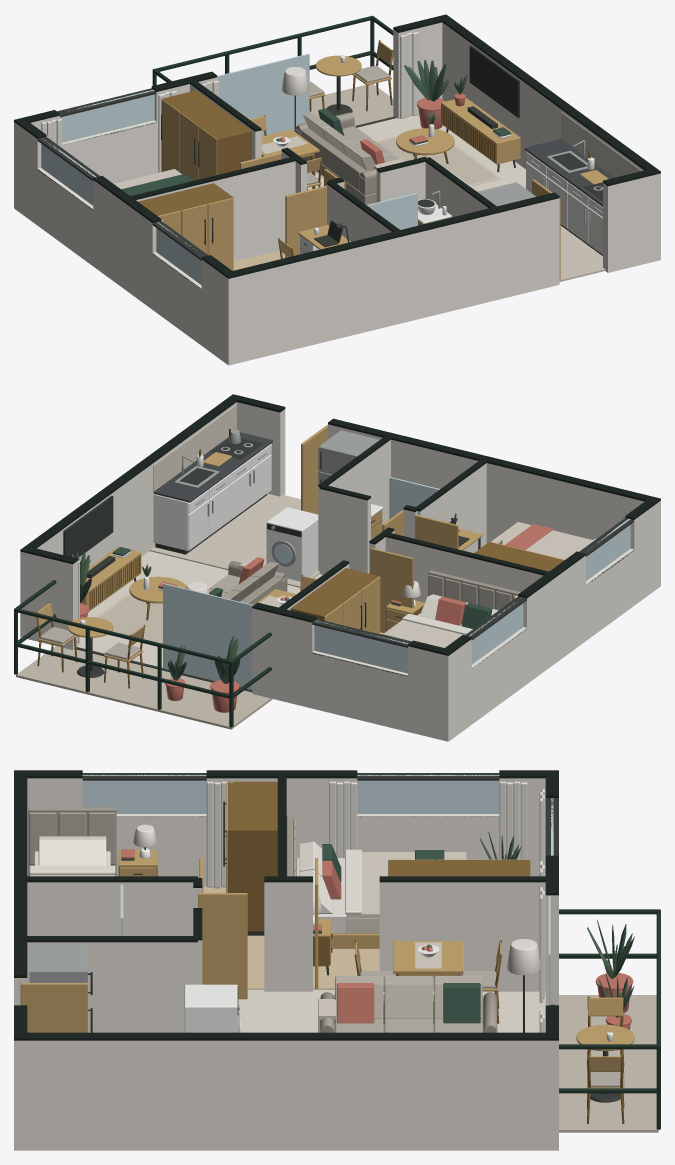
The model's file is jda-interior-tipo-a.glb.
3 views of the same model, one above another, from view 1: azimuth 30°, elevation 25°; view 2: azimuth 150°, elevation 25°; view 3: azimuth 270°, elevation 25° (orthographic). The views are drawn at different scales.
Parts seen in each view (by area): view 1: VIS__INTA_PAREDE, VIS__INTA_MADEIRA, VIS__INTA_CORTE, VIS__INTA_VIDRO, VIS__INTA_MADEIRA_ESC, VIS__INTA_ESCURO, VIS__INTA_BRANCO, VIS__INTA_TECIDO2, VIS__INTA_TECIDO, VIS__INTA_ESTOFADO, VIS__INTA_ESTOFADO2, VIS__INTA_PISO (+9 smaller); view 2: VIS__INTA_PAREDE, VIS__INTA_VIDRO, VIS__INTA_MADEIRA, VIS__INTA_CORTE, VIS__INTA_BRANCO, VIS__INTA_VARANDA, VIS__INTA_ESCURO, VIS__INTA_TECIDO2, VIS__INTA_MADEIRA_ESC, VIS__INTA_MOLHADO, VIS__INTA_GUARDACORPO, VIS__INTA_ESTOFADO2 (+9 smaller); view 3: VIS__INTA_PAREDE, VIS__INTA_CORTE, VIS__INTA_TECIDO, VIS__INTA_MADEIRA, VIS__INTA_MADEIRA_ESC, VIS__INTA_VIDRO, VIS__INTA_ESTOFADO2, VIS__INTA_VARANDA, VIS__INTA_PISO, VIS__INTA_ESCURO, VIS__INTA_TECIDO2, VIS__INTA_GUARDACORPO (+7 smaller).
Boxes of the visible parts, box(x1,y1,x2,y2) form: VIS__INTA_PAREDE: box(14, 22, 660, 365); VIS__INTA_MADEIRA: box(158, 41, 608, 280); VIS__INTA_CORTE: box(14, 14, 660, 288); VIS__INTA_VIDRO: box(41, 53, 417, 284); VIS__INTA_MADEIRA_ESC: box(138, 40, 590, 258); VIS__INTA_ESCURO: box(37, 45, 602, 260); VIS__INTA_BRANCO: box(273, 55, 602, 254); VIS__INTA_TECIDO2: box(113, 112, 641, 189); VIS__INTA_TECIDO: box(41, 32, 418, 222); VIS__INTA_ESTOFADO: box(295, 112, 376, 204); VIS__INTA_ESTOFADO2: box(303, 65, 398, 184); VIS__INTA_PISO: box(307, 114, 604, 281); VIS__INTA_PAREDE: box(20, 402, 660, 741); VIS__INTA_VIDRO: box(163, 477, 630, 689); VIS__INTA_MADEIRA: box(37, 425, 564, 662); VIS__INTA_CORTE: box(20, 394, 660, 676); VIS__INTA_BRANCO: box(80, 443, 464, 624); VIS__INTA_VARANDA: box(16, 646, 272, 729); VIS__INTA_ESCURO: box(63, 428, 633, 692); VIS__INTA_TECIDO2: box(95, 404, 592, 647); VIS__INTA_MADEIRA_ESC: box(36, 449, 563, 688); VIS__INTA_MOLHADO: box(149, 493, 381, 587); VIS__INTA_GUARDACORPO: box(14, 580, 271, 727); VIS__INTA_ESTOFADO2: box(39, 562, 515, 659); VIS__INTA_PAREDE: box(14, 778, 558, 1150); VIS__INTA_CORTE: box(14, 770, 558, 1040); VIS__INTA_TECIDO: box(29, 781, 544, 1032); VIS__INTA_MADEIRA: box(20, 782, 634, 1088); VIS__INTA_MADEIRA_ESC: box(118, 781, 624, 1123); VIS__INTA_VIDRO: box(82, 775, 553, 1032); VIS__INTA_ESTOFADO2: box(29, 812, 623, 1087); VIS__INTA_VARANDA: box(559, 995, 658, 1132); VIS__INTA_PISO: box(238, 989, 548, 1032); VIS__INTA_ESCURO: box(82, 773, 620, 1102); VIS__INTA_TECIDO2: box(30, 852, 466, 1032); VIS__INTA_GUARDACORPO: box(559, 909, 660, 1129).
Size of the model in its own units: 7.15 by 1.44 by 7.3.
